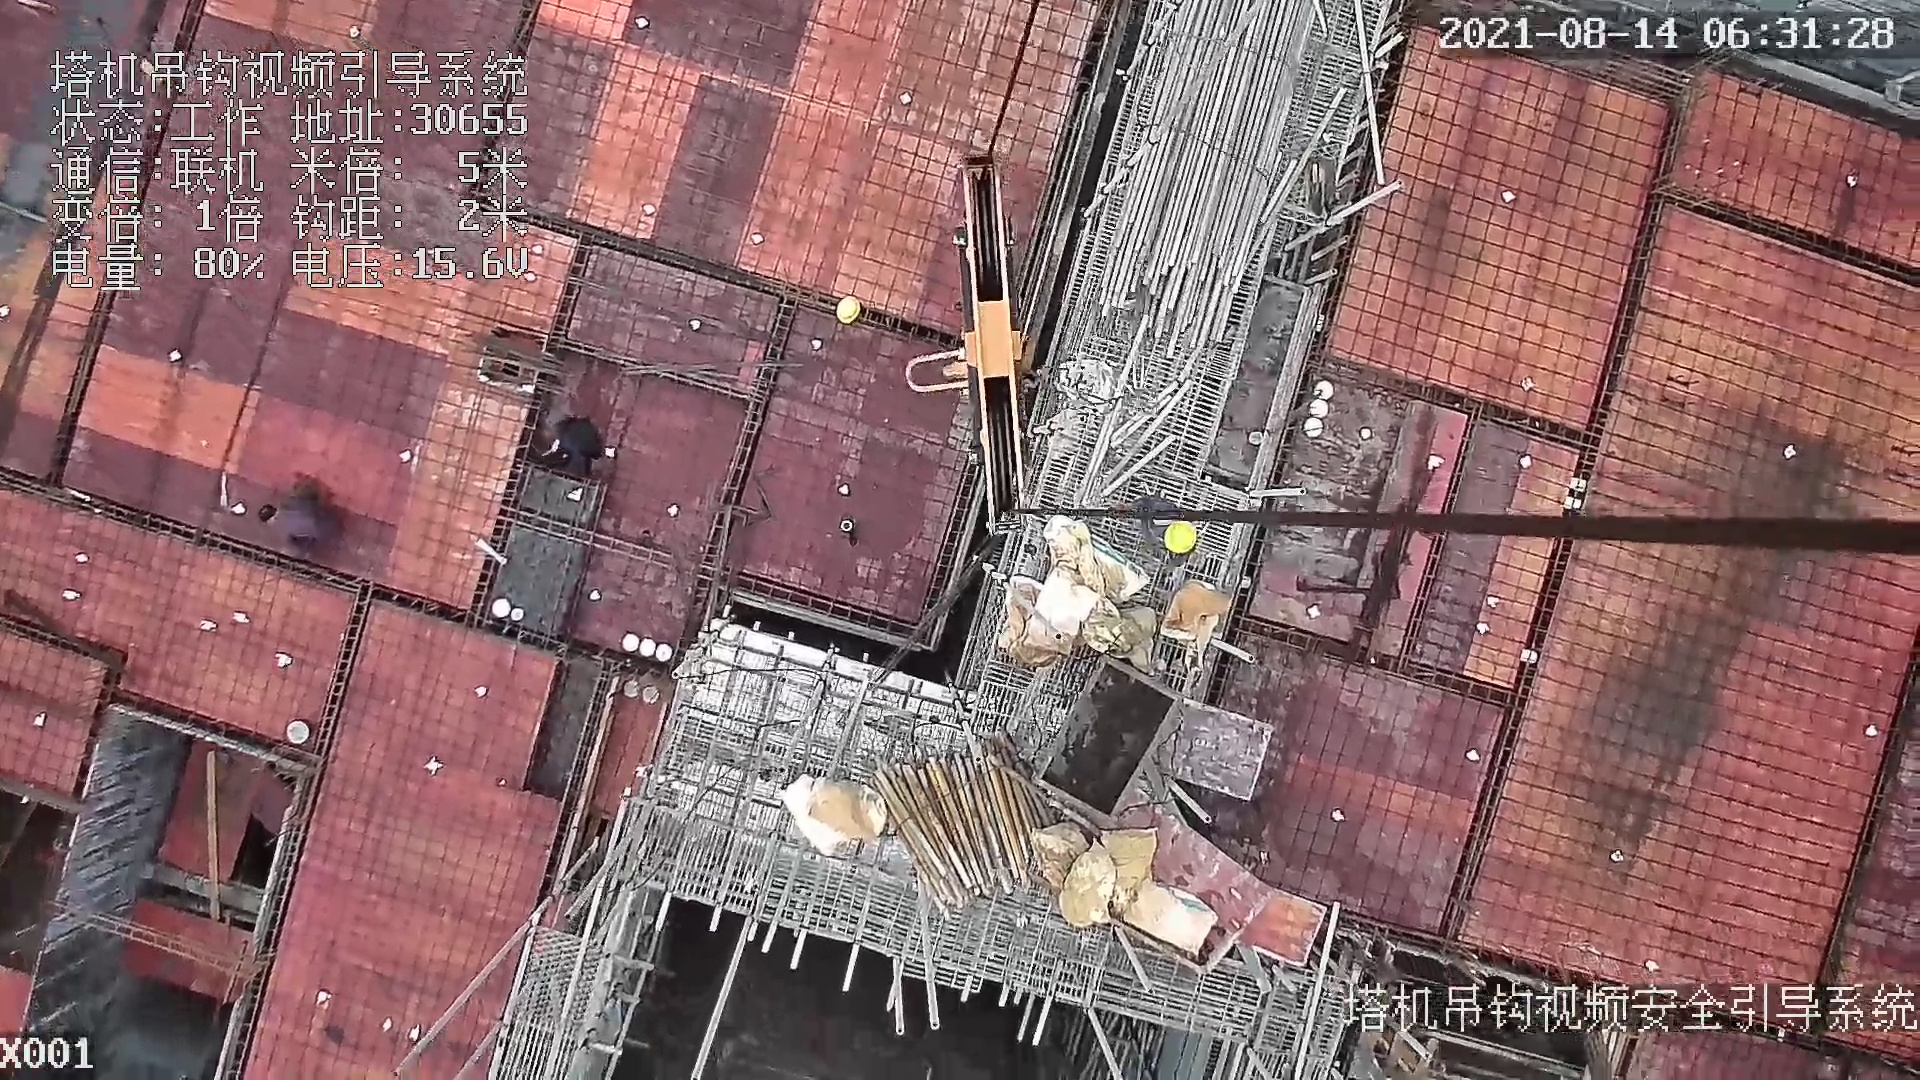helmet: (1161, 522, 1200, 555), (835, 295, 865, 328)
hook: (909, 153, 1031, 540)
hopper: (1049, 663, 1183, 822)
person: (254, 482, 342, 551), (1124, 490, 1195, 573), (531, 413, 608, 480)
scaffold: (876, 722, 1063, 913)
